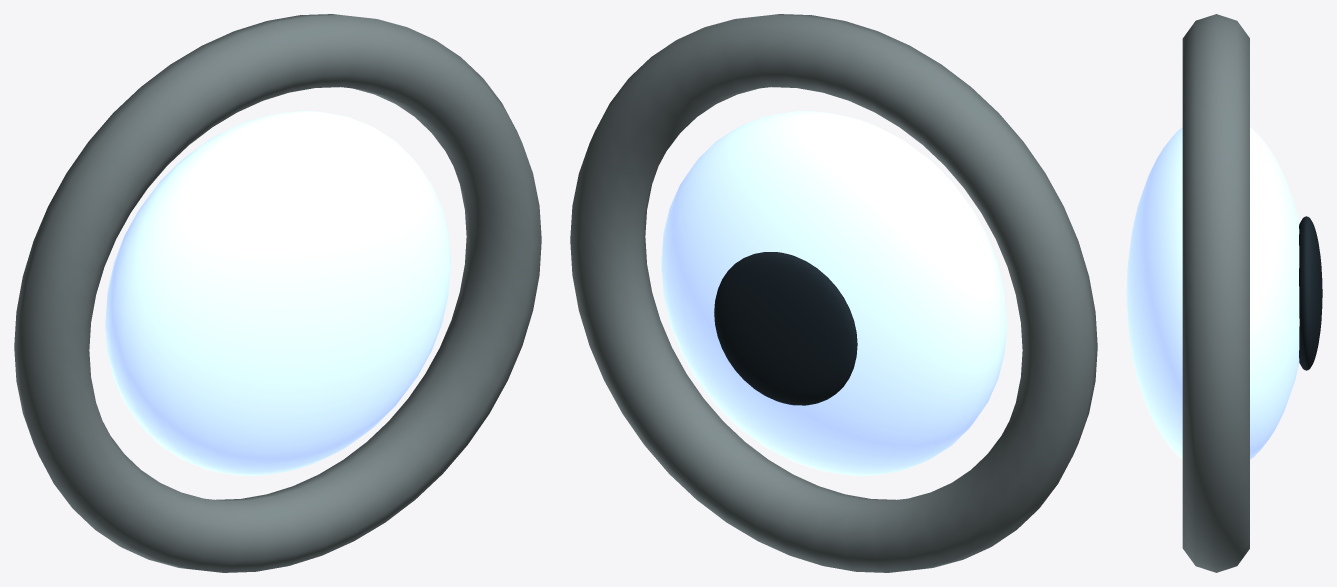
The model's file is power_vision.glb.
3 views of the same model, side by side, from view 1: azimuth 30°, elevation 25°; view 2: azimuth 150°, elevation 25°; view 3: azimuth 270°, elevation 25° (orthographic). The views are drawn at different scales.
Visible parts, largest first — view 1: lens_rim, lens; view 2: lens_rim, lens, pupil; view 3: lens_rim, lens, pupil.
Part boxes in pixels (bbox=[...]): lens_rim: bbox=[14, 14, 541, 572]; lens: bbox=[105, 111, 450, 475]; lens_rim: bbox=[570, 14, 1097, 572]; lens: bbox=[661, 111, 1006, 475]; pupil: bbox=[714, 252, 857, 405]; lens_rim: bbox=[1182, 14, 1249, 572]; lens: bbox=[1126, 127, 1299, 459]; pupil: bbox=[1299, 216, 1322, 370].
Size of the model in its own units: 0.87 by 0.87 by 0.305.
